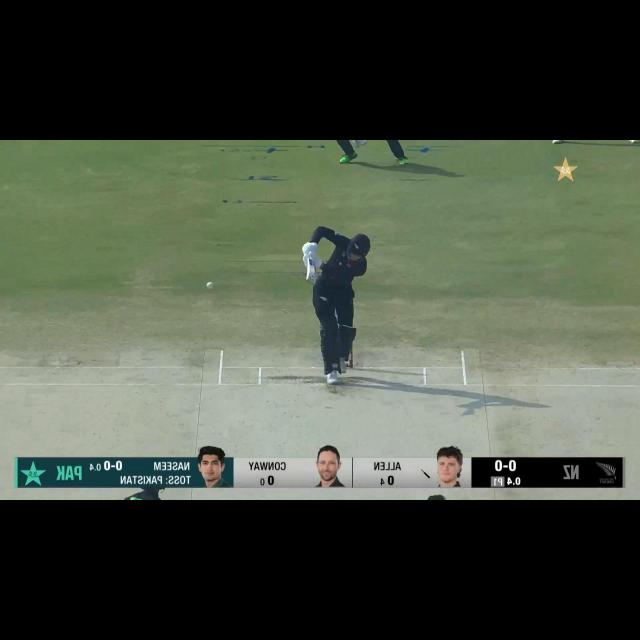bat: (305, 258, 319, 285)
toe: (306, 276, 318, 285)
